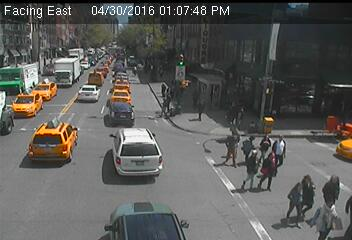neg: (47, 139, 77, 180), (89, 62, 110, 89), (92, 109, 112, 136), (155, 61, 172, 85), (169, 5, 172, 10)
